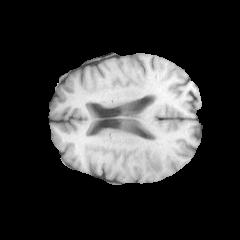glioma: (139, 137, 162, 174)
